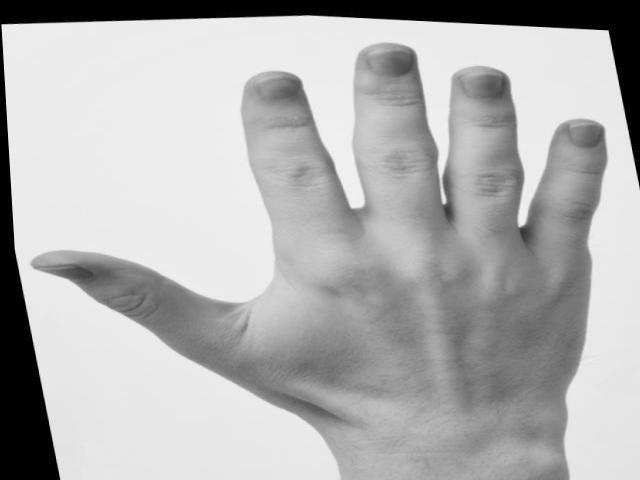not-gloved: (31, 38, 610, 417)
